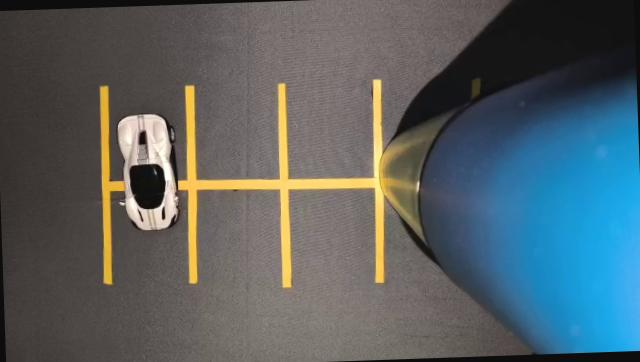toy_car: (114, 100, 200, 256)
